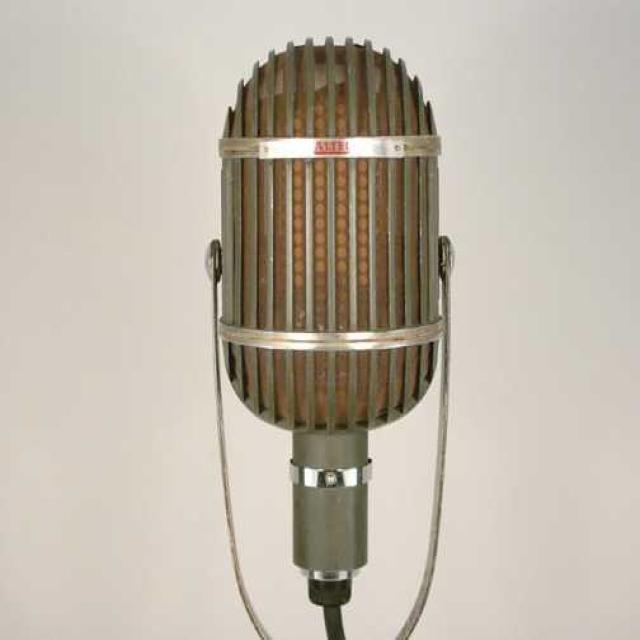microphone: (211, 41, 451, 636)
